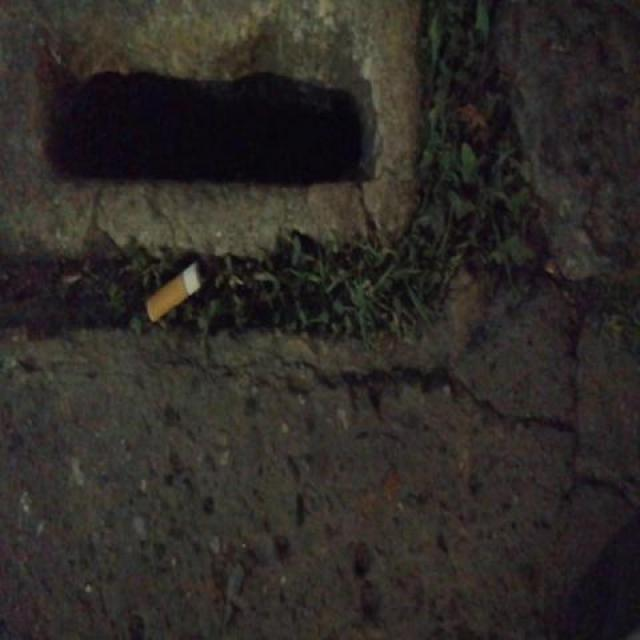non-organic waste: (143, 247, 210, 338)
